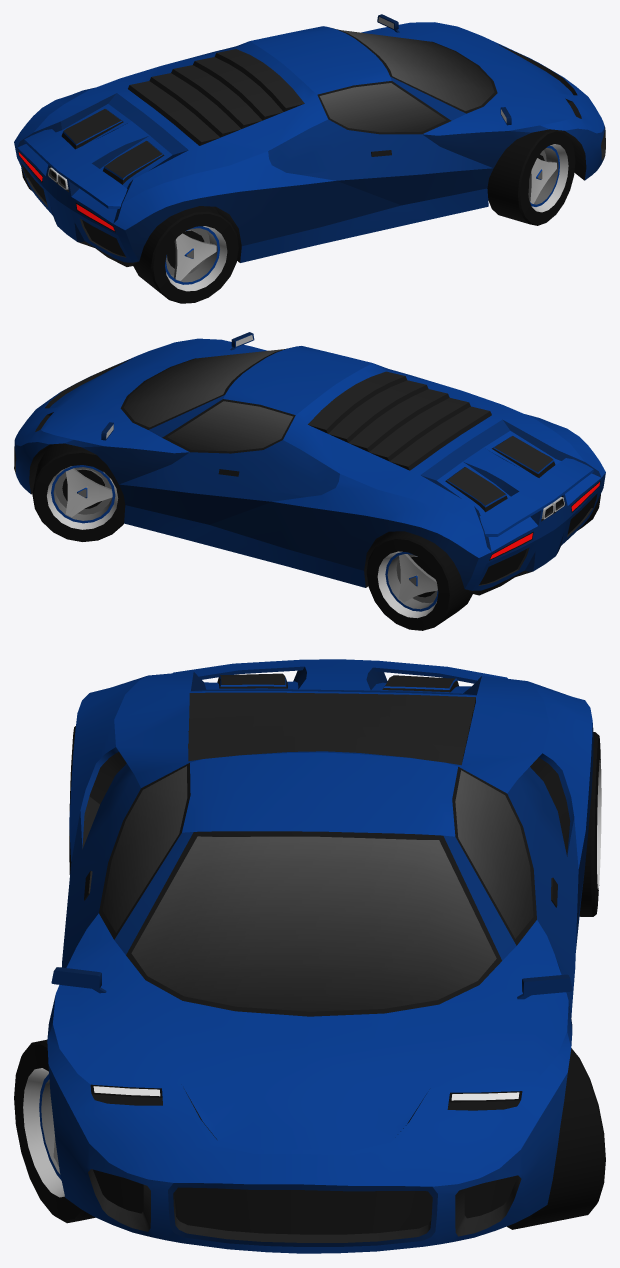
The model's file is Car_151.glb.
3 views of the same model, one above another, from view 1: azimuth 30°, elevation 25°; view 2: azimuth 150°, elevation 25°; view 3: azimuth 270°, elevation 25° (orthographic). The views are drawn at different scales.
Parts seen in each view (by area): view 1: Car_151, wheel_3_Car_151_Wheel_4R, wheel_1_Car_151_Wheel_2R; view 2: Car_151, wheel_2_Car_151_Wheel_3L, wheel_0_Car_151_Wheel_1L; view 3: Car_151, wheel_0_Car_151_Wheel_1L, wheel_1_Car_151_Wheel_2R, wheel_2_Car_151_Wheel_3L.
Part boxes in pixels (box(x1,y1,x2,y2)): Car_151: box(14, 14, 605, 266); wheel_3_Car_151_Wheel_4R: box(132, 206, 238, 303); wheel_1_Car_151_Wheel_2R: box(487, 129, 575, 225); Car_151: box(14, 332, 605, 595); wheel_2_Car_151_Wheel_3L: box(366, 531, 473, 630); wheel_0_Car_151_Wheel_1L: box(32, 443, 125, 541); Car_151: box(47, 659, 593, 1253); wheel_0_Car_151_Wheel_1L: box(461, 1048, 605, 1229); wheel_1_Car_151_Wheel_2R: box(14, 1039, 95, 1223); wheel_2_Car_151_Wheel_3L: box(579, 732, 601, 916).
Bounding box in the file's own units: 4.25 × 1.22 × 2.26.
3 materials, 3 textured.
